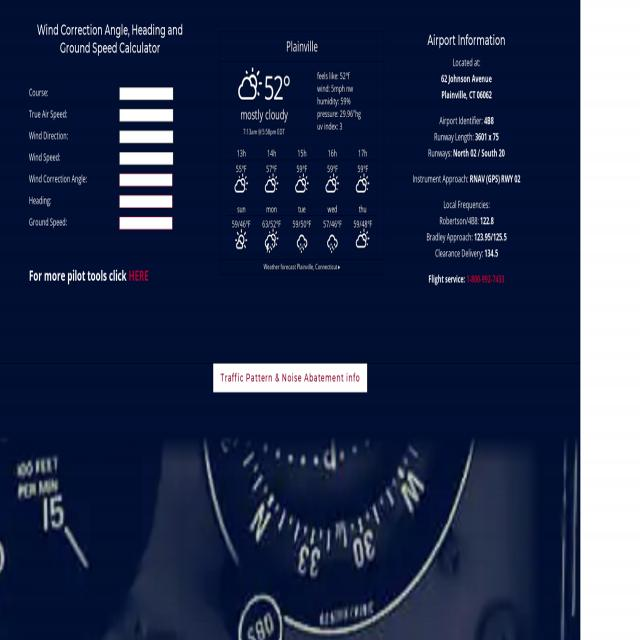button: (213, 363, 367, 392)
field: (119, 194, 173, 209), (119, 173, 173, 187), (119, 216, 173, 230), (119, 130, 173, 143), (119, 87, 173, 99), (119, 109, 173, 121), (119, 152, 173, 164)
